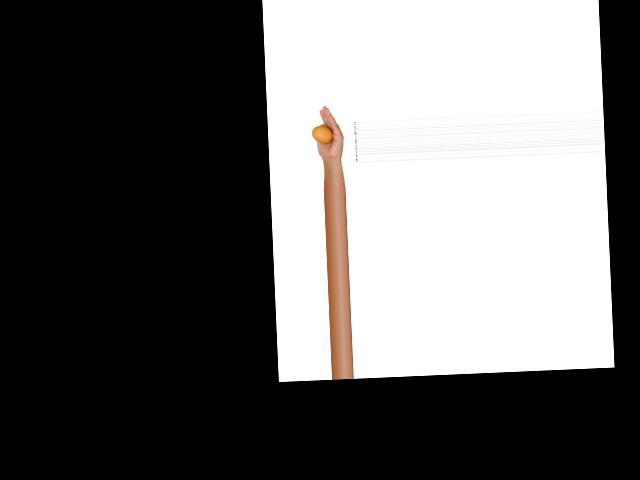egg: (311, 124, 333, 143)
